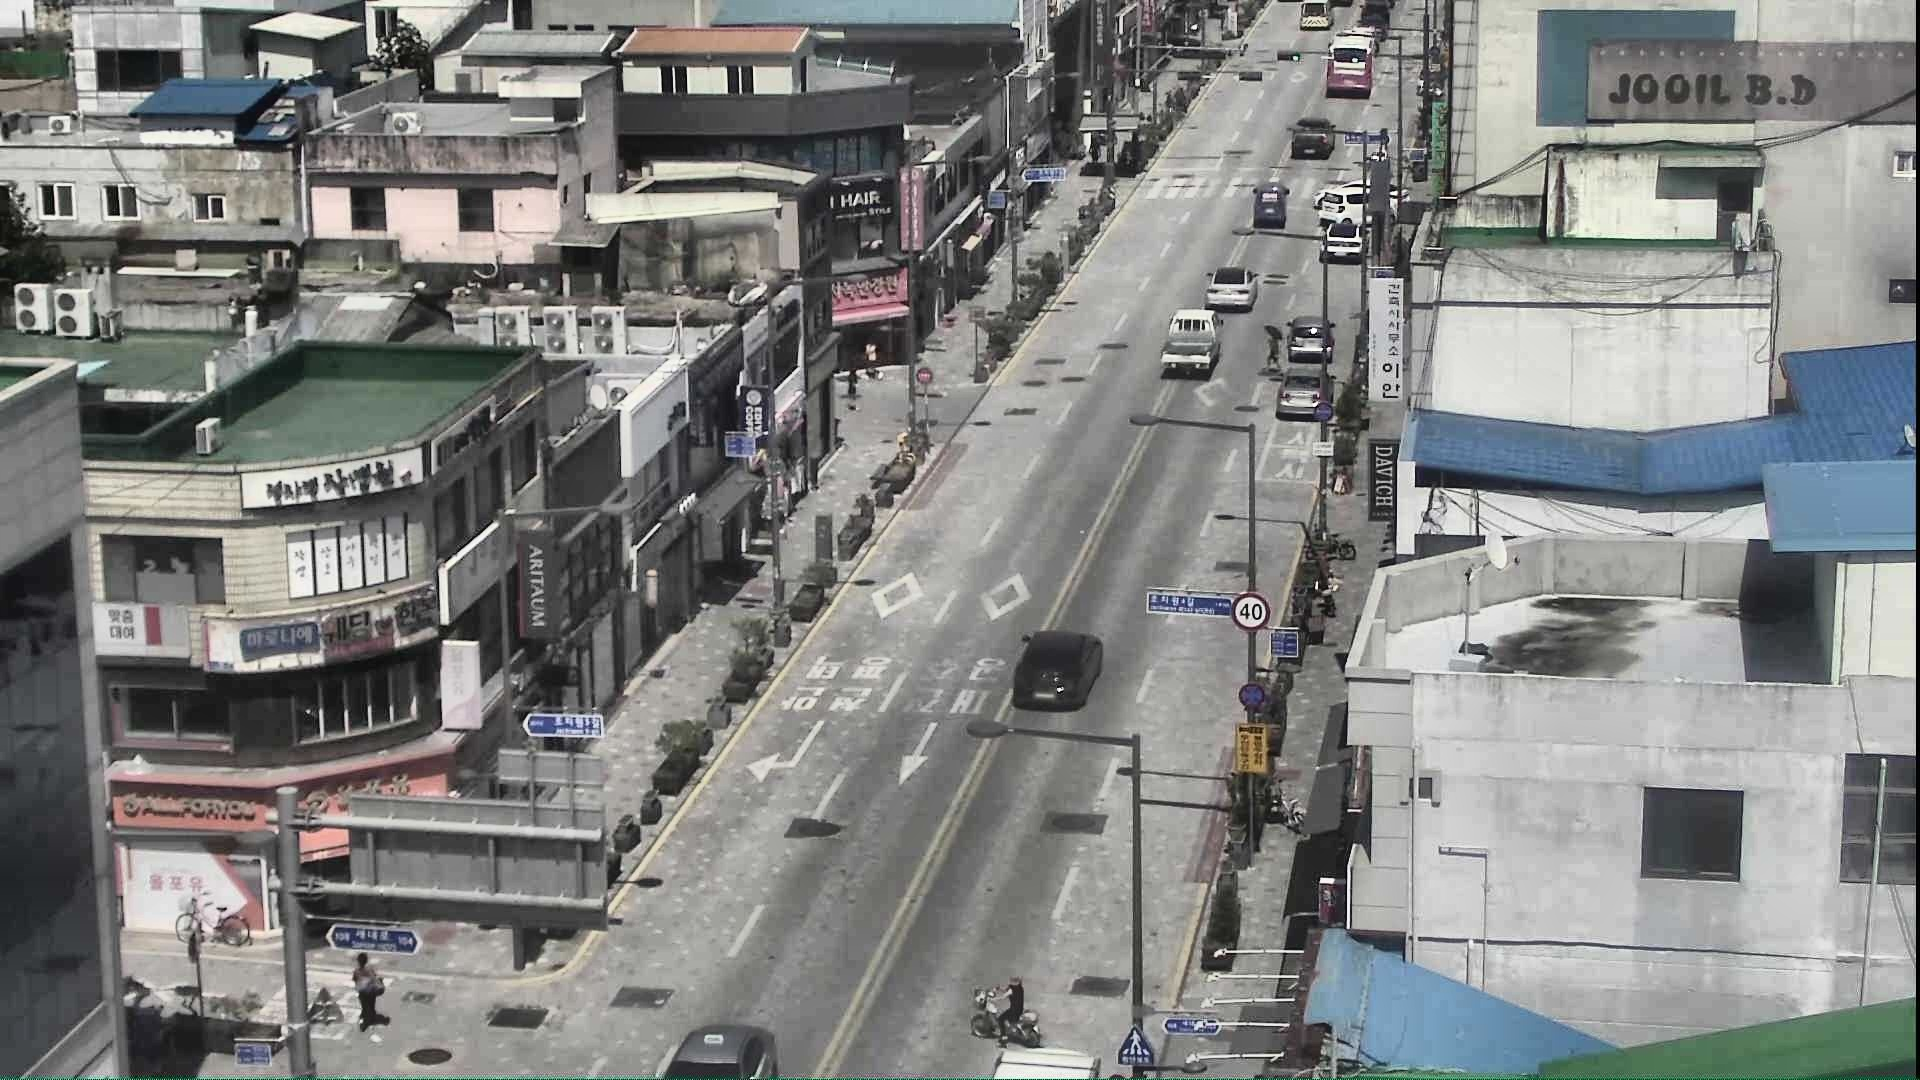jaywalk: (992, 971, 1027, 1046), (349, 955, 382, 1030)
sidewalk: (858, 338, 885, 381), (1083, 137, 1102, 170)
um_jaywalk: (1255, 319, 1283, 375)
